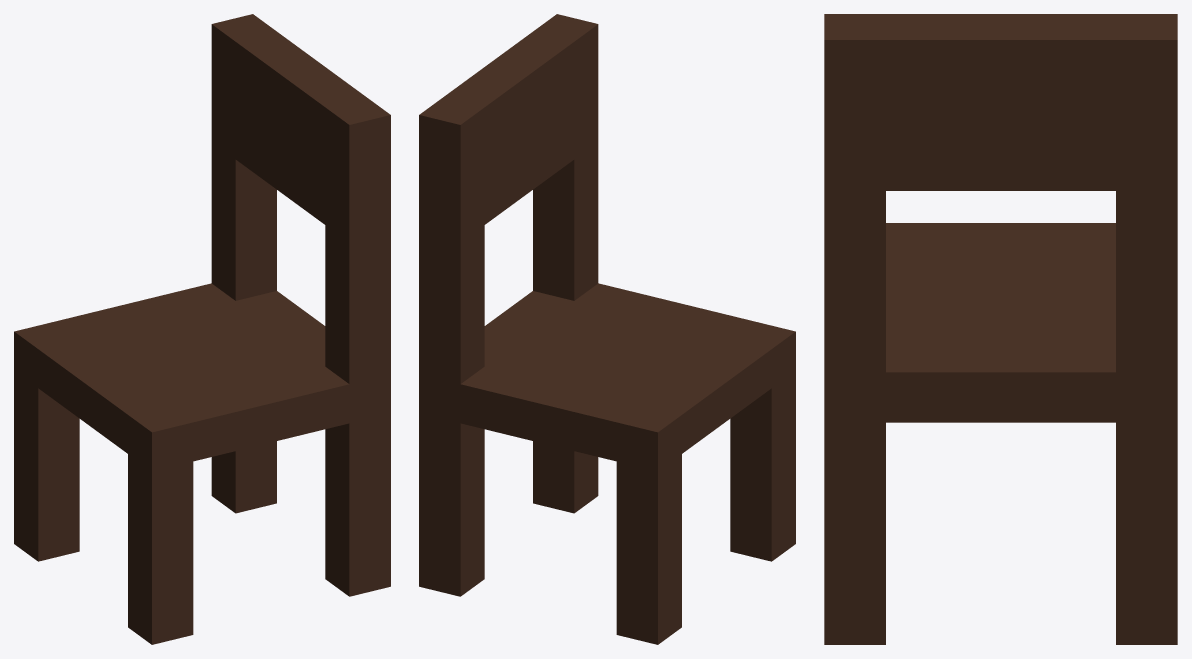
File: chair.fbx
The picture shows the model from 3 angles, left to right: view 1: azimuth 30°, elevation 25°; view 2: azimuth 150°, elevation 25°; view 3: azimuth 270°, elevation 25°; orthographic projection. The views are drawn at different scales.
Visible parts, largest first — view 1: chair; view 2: chair; view 3: chair.
Part boxes in pixels (bbox=[...]): chair: bbox=[14, 14, 390, 644]; chair: bbox=[419, 14, 795, 644]; chair: bbox=[824, 14, 1177, 644].
Size of the model in its own units: 200 by 378 by 200.
